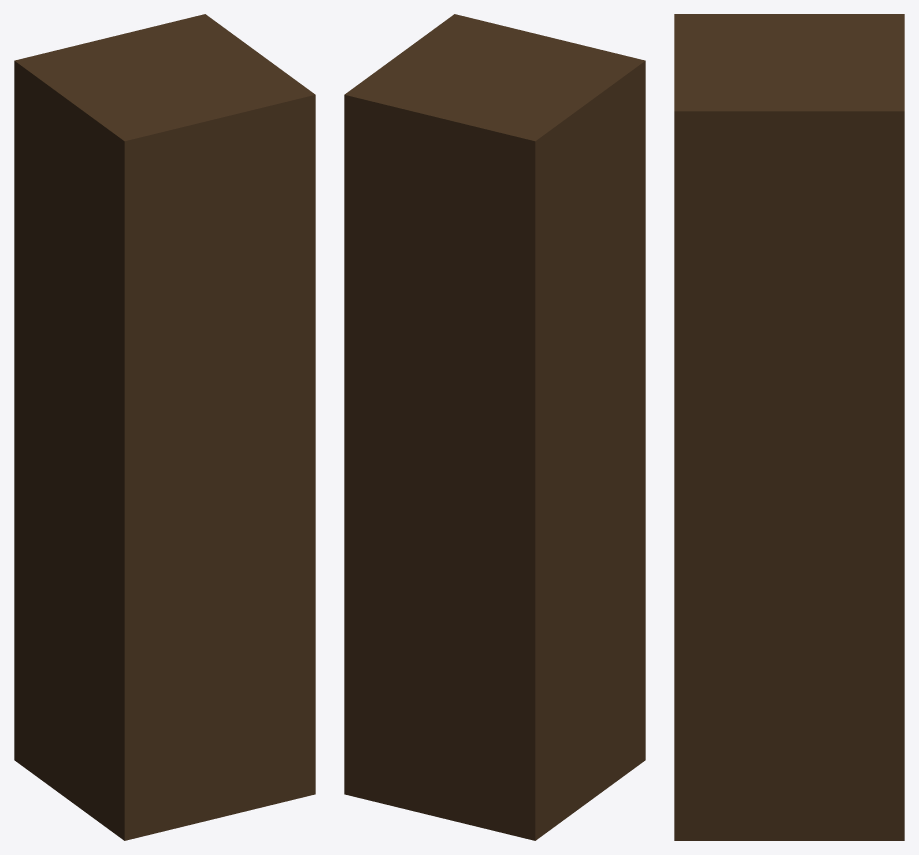
The model's file is tree_cypress_collision.fbx.
The picture shows the model from 3 angles, left to right: view 1: azimuth 30°, elevation 25°; view 2: azimuth 150°, elevation 25°; view 3: azimuth 270°, elevation 25°; orthographic projection. The views are drawn at different scales.
Parts seen in each view (by area): view 1: Trunk collision.001; view 2: Trunk collision.001; view 3: Trunk collision.001.
Boxes of the visible parts, x1,y1,x2,y2 form: Trunk collision.001: (14,14,315,840); Trunk collision.001: (344,14,645,840); Trunk collision.001: (674,14,904,840).
Bounding box in the file's own units: 8000 × 8000 × 28000.
